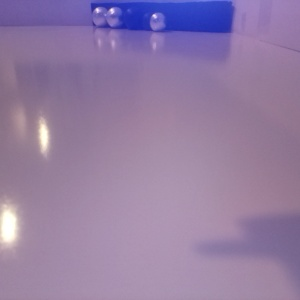alive_ball: (269, 7, 300, 54)
